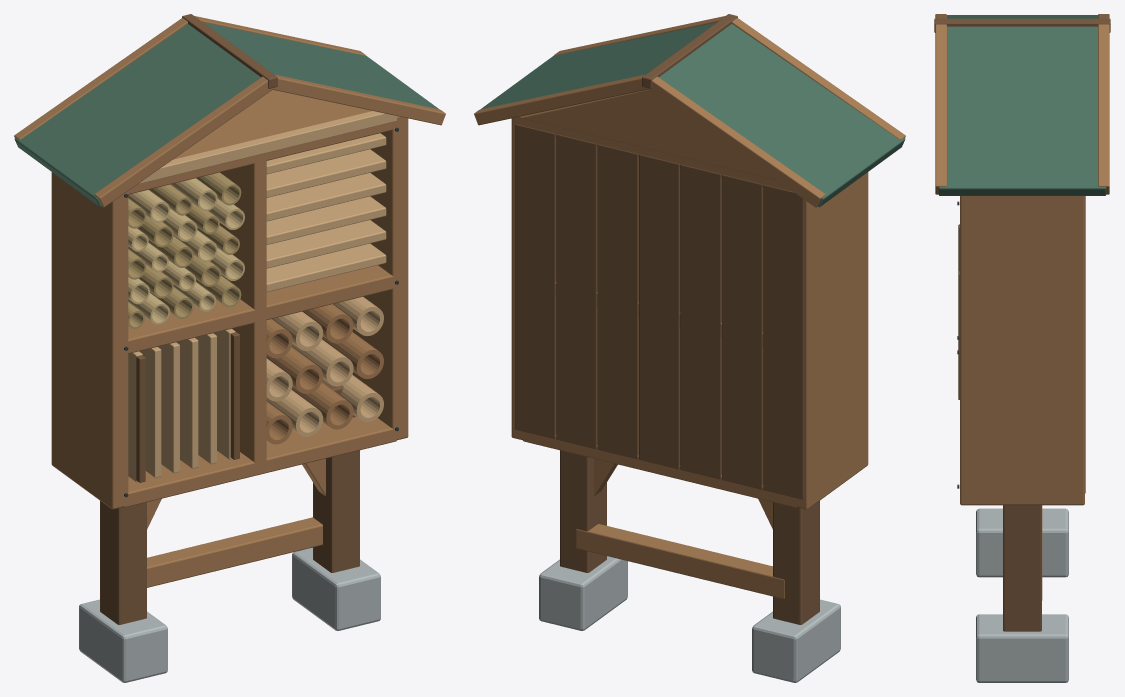
File: city-insect-hotel.glb
3 renders of one model, left to right at view 1: azimuth 30°, elevation 25°; view 2: azimuth 150°, elevation 25°; view 3: azimuth 270°, elevation 25°, orthographic.
Visible parts, largest first — view 1: Assembly | Warm unfinished timber, Assembly | Pale timber endgrain, Assembly | Patinated roof green, Assembly | Dark timber braces, Assembly | Satin galvanized hardware, Assembly | Muted reed variation, Assembly | Golden hollow reed; view 2: Assembly | Dark timber braces, Assembly | Warm unfinished timber, Assembly | Patinated roof green, Assembly | Satin galvanized hardware; view 3: Assembly | Warm unfinished timber, Assembly | Patinated roof green, Assembly | Satin galvanized hardware, Assembly | Dark timber braces.
Boxes of the visible parts, left/top/right/bottom form: Assembly | Warm unfinished timber: left=14, top=16, right=445, bottom=587; Assembly | Pale timber endgrain: left=128, top=111, right=396, bottom=482; Assembly | Patinated roof green: left=14, top=22, right=438, bottom=207; Assembly | Dark timber braces: left=100, top=14, right=359, bottom=624; Assembly | Satin galvanized hardware: left=79, top=547, right=380, bottom=682; Assembly | Muted reed variation: left=128, top=172, right=241, bottom=328; Assembly | Golden hollow reed: left=128, top=178, right=244, bottom=324; Assembly | Dark timber braces: left=515, top=14, right=819, bottom=624; Assembly | Warm unfinished timber: left=474, top=16, right=905, bottom=598; Assembly | Patinated roof green: left=481, top=22, right=905, bottom=207; Assembly | Satin galvanized hardware: left=539, top=556, right=840, bottom=682; Assembly | Warm unfinished timber: left=935, top=14, right=1109, bottom=600; Assembly | Patinated roof green: left=938, top=15, right=1106, bottom=195; Assembly | Satin galvanized hardware: left=976, top=508, right=1068, bottom=682; Assembly | Dark timber braces: left=934, top=18, right=1110, bottom=631.
Size of the model in its own units: 1.15 by 1.85 by 0.494.
